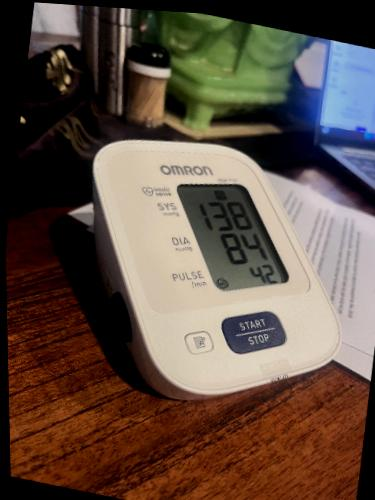bpm: (173, 155, 289, 304)
